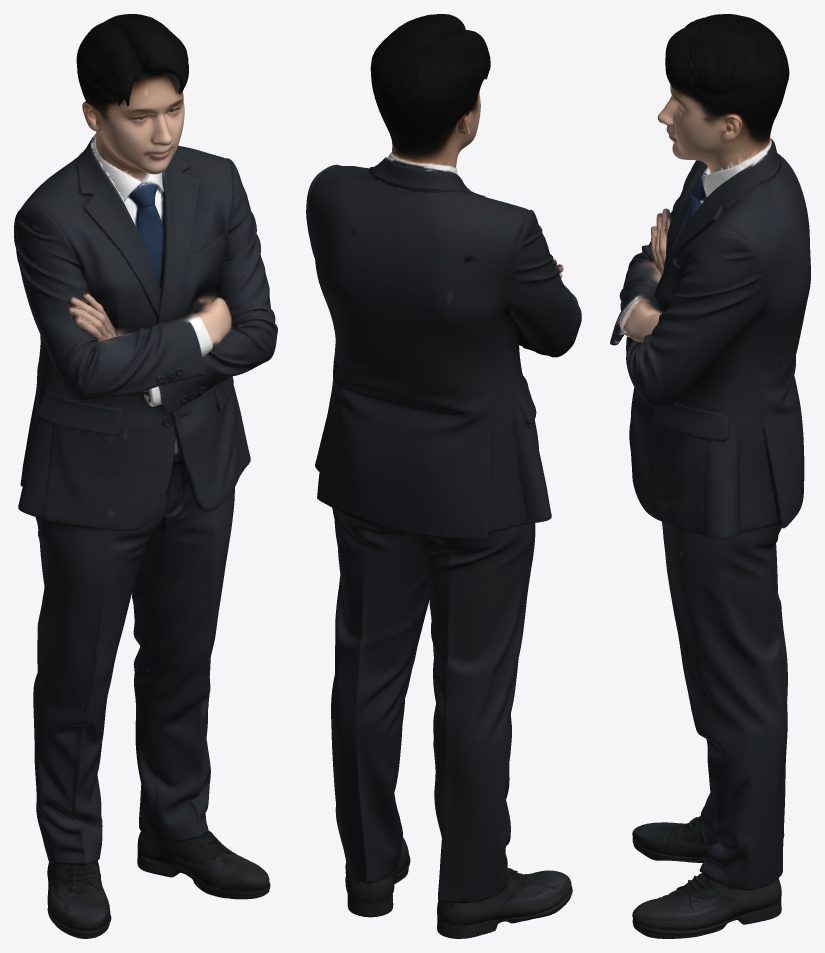
File: avatar.glb
3 views of the same model, side by side, from view 1: azimuth 30°, elevation 25°; view 2: azimuth 150°, elevation 25°; view 3: azimuth 270°, elevation 25° (orthographic). The views are drawn at different scales.
Visible parts, largest first — view 1: node_0; view 2: node_0; view 3: node_0.
Part boxes in pixels (x1,y1,x2,y2): node_0: (14, 14, 277, 938); node_0: (306, 14, 581, 938); node_0: (610, 14, 810, 938).
Bounding box in the file's own units: 0.3232 × 1.16 × 0.2431.
1 material, 1 textured.
